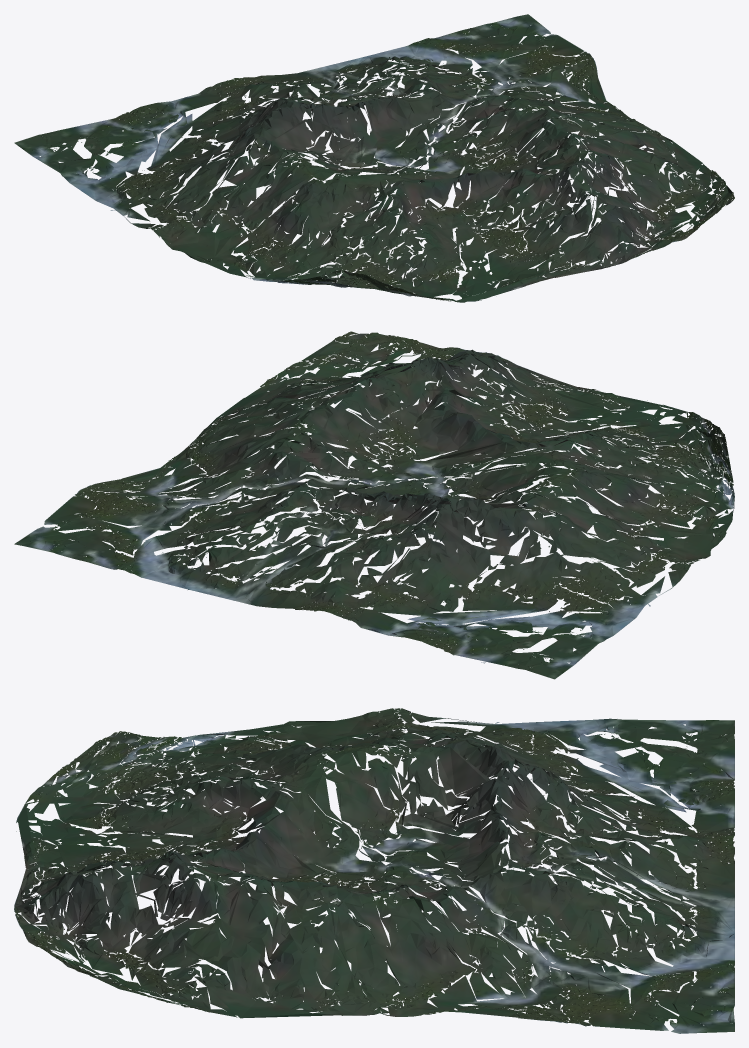
File: terrain-software.glb
3 views of the same model, one above another, from view 1: azimuth 30°, elevation 25°; view 2: azimuth 150°, elevation 25°; view 3: azimuth 270°, elevation 25° (orthographic). The views are drawn at different scales.
Parts seen in each view (by area): view 1: Mesher; view 2: Mesher; view 3: Mesher.
Boxes of the visible parts, x1,y1,x2,y2 form: Mesher: (14, 14, 734, 302); Mesher: (14, 331, 734, 679); Mesher: (14, 708, 734, 1033).
Bounding box in the file's own units: 2 × 0.2317 × 1.93.
Materials: 1 (1 with a texture image).
